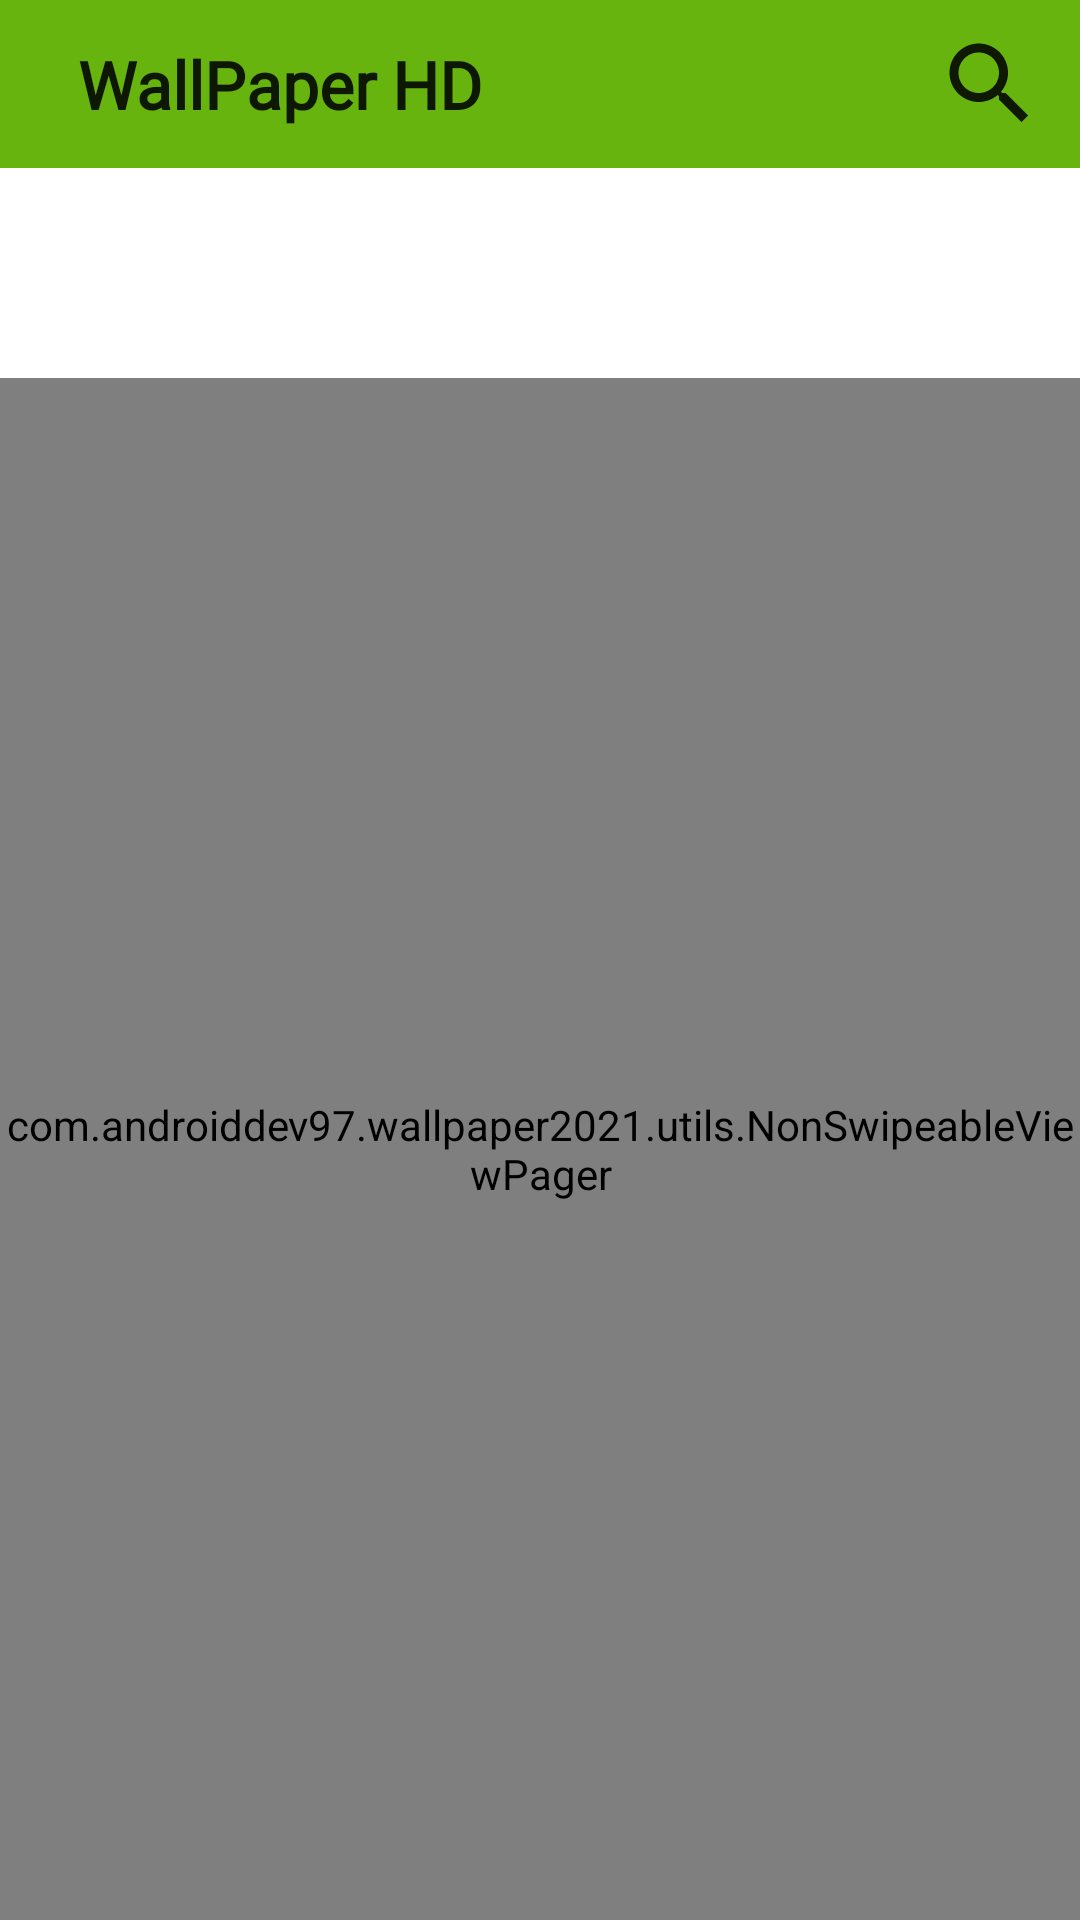

Point at icon controls on the screen. Image size 1080×1920, points as (x,y).
search: (988,82)
